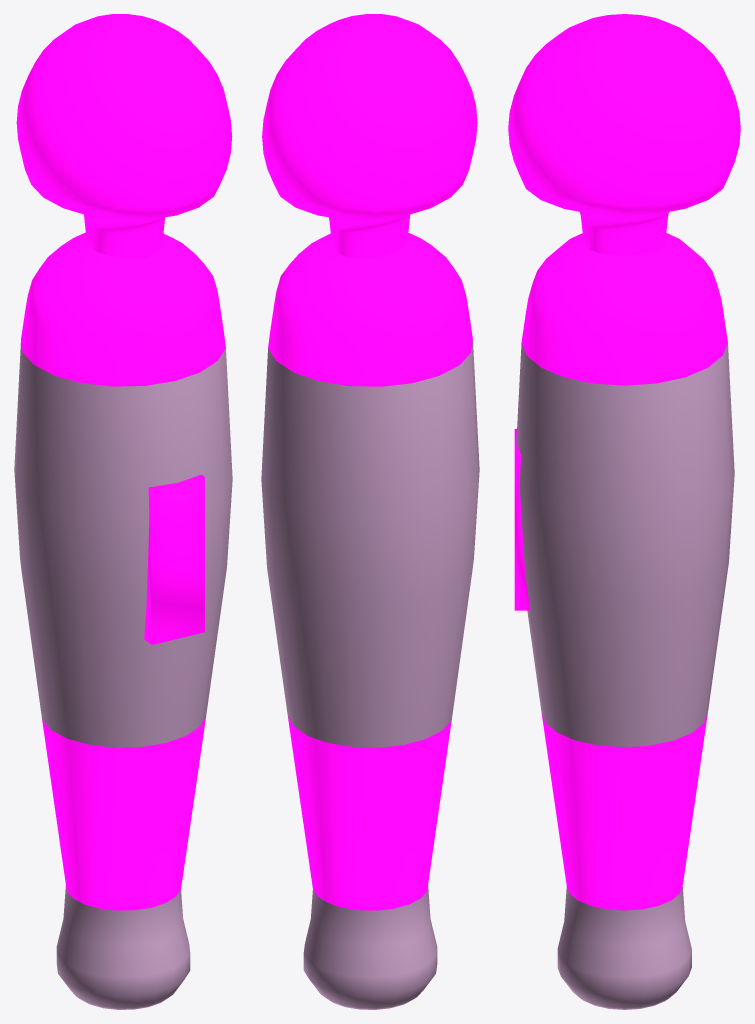
The model's file is Vibe2_Pink.fbx.
The picture shows the model from 3 angles, left to right: view 1: azimuth 30°, elevation 25°; view 2: azimuth 150°, elevation 25°; view 3: azimuth 270°, elevation 25°; orthographic projection.
Visible parts, largest first — view 1: obj1, obj2, obj3; view 2: obj1, obj2; view 3: obj1, obj2, obj3.
Boxes of the visible parts, box(x1,y1,x2,y2) form: obj1: box(14, 232, 232, 1009); obj2: box(16, 14, 232, 259); obj3: box(144, 474, 204, 644); obj1: box(261, 233, 479, 1009); obj2: box(262, 14, 477, 259); obj1: box(516, 233, 734, 1009); obj2: box(508, 14, 740, 255); obj3: box(514, 429, 530, 610).
Bounding box in the file's own units: 36.1 × 175 × 38.19.
